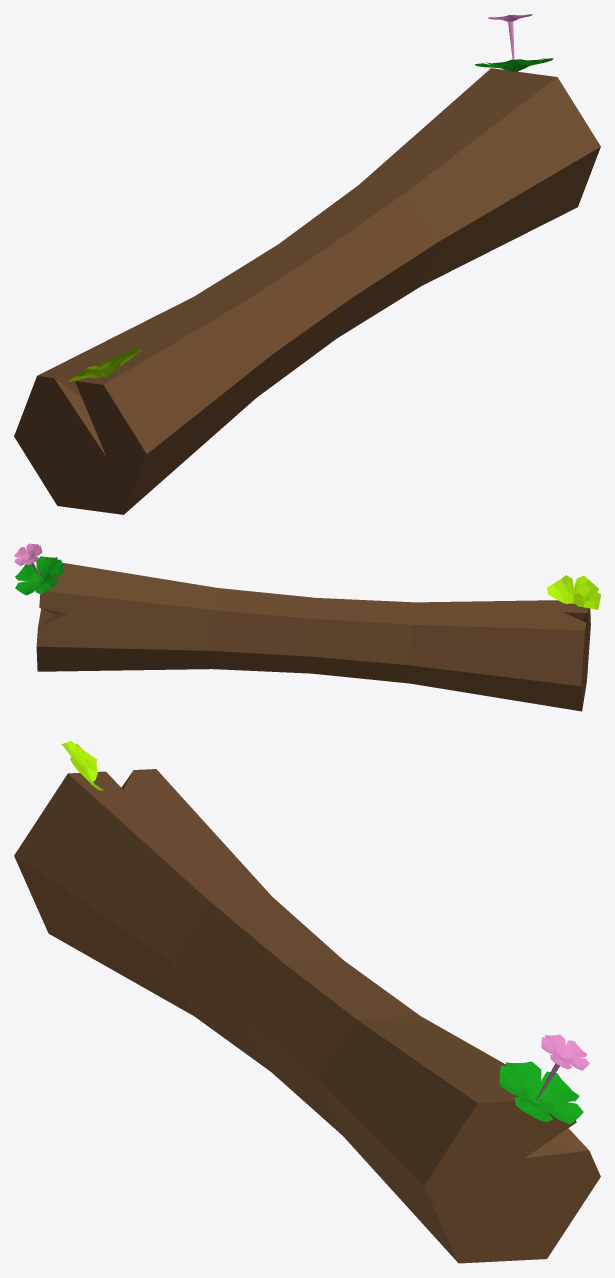
Rendered from log.fbx.
3 views of the same model, one above another, from view 1: azimuth 30°, elevation 25°; view 2: azimuth 150°, elevation 25°; view 3: azimuth 270°, elevation 25° (orthographic). The views are drawn at different scales.
Visible parts, largest first — view 1: tree trunk; view 2: tree trunk; view 3: tree trunk.
Boxes of the visible parts, box(x1,y1,x2,y2) form: tree trunk: box(14, 14, 600, 514); tree trunk: box(14, 543, 600, 711); tree trunk: box(14, 740, 600, 1263).
Bounding box in the file's own units: 115 × 34.64 × 71.16.
